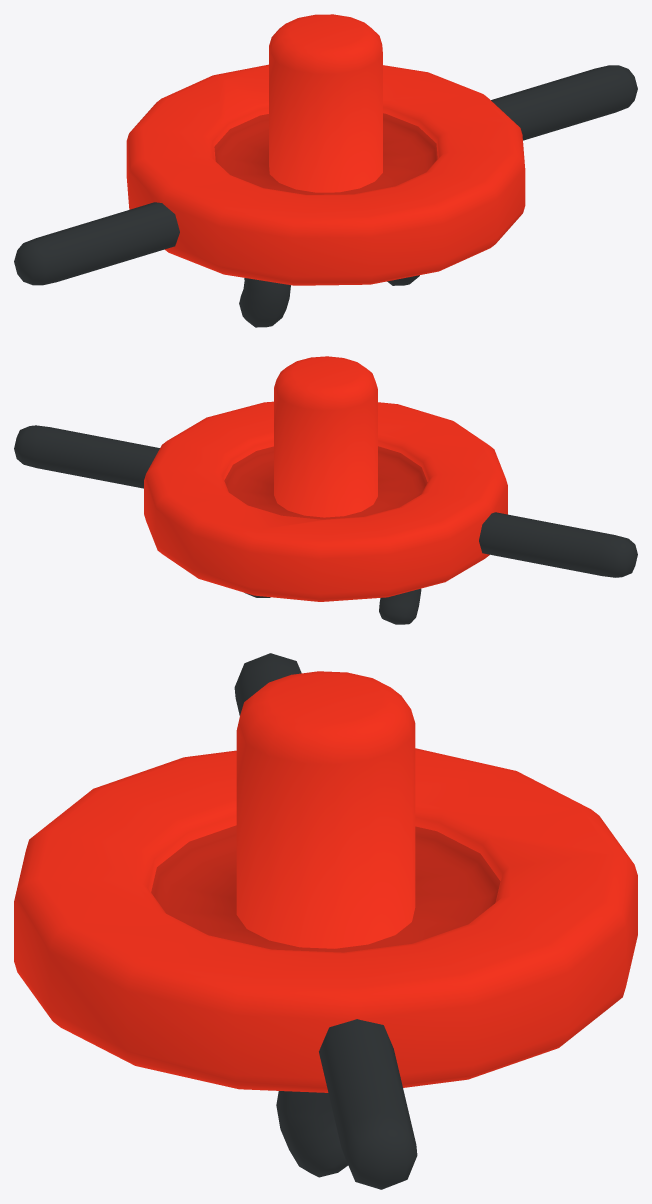
The model's file is beater.gltf.
3 views of the same model, one above another, from view 1: azimuth 30°, elevation 25°; view 2: azimuth 150°, elevation 25°; view 3: azimuth 270°, elevation 25° (orthographic). The views are drawn at different scales.
Parts seen in each view (by area): view 1: theBeater; view 2: theBeater; view 3: theBeater.
Part boxes in pixels (x1,y1,x2,y2): theBeater: (14,14,637,327); theBeater: (14,356,637,624); theBeater: (14,653,637,1189).
Bounding box in the file's own units: 0.5549 × 0.2199 × 0.2974.
1 material, 1 textured.
